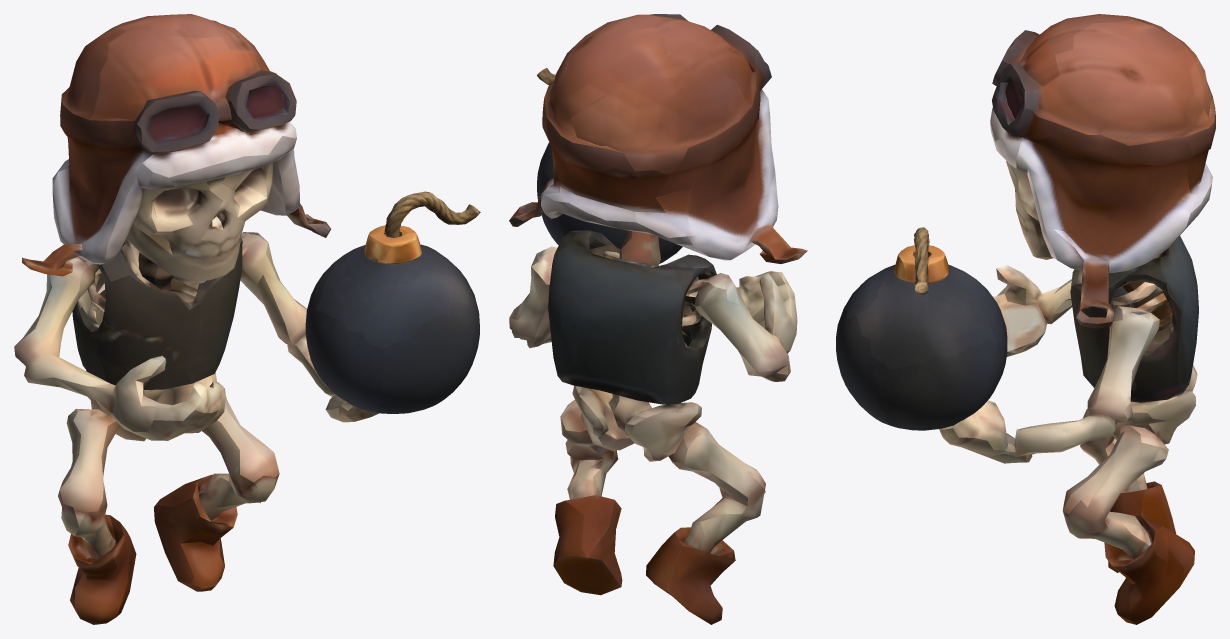
File: bomber_red.glb
3 renders of one model, left to right at view 1: azimuth 30°, elevation 25°; view 2: azimuth 150°, elevation 25°; view 3: azimuth 270°, elevation 25°, orthographic. The views are drawn at different scales.
Parts seen in each view (by area): view 1: bomber_red_body, bomber_red_bomb; view 2: bomber_red_body, bomber_red_bomb; view 3: bomber_red_body, bomber_red_bomb.
Part boxes in pixels (bbox=[...]): bomber_red_body: bbox=[14, 14, 378, 624]; bomber_red_bomb: bbox=[305, 191, 480, 413]; bomber_red_body: bbox=[509, 14, 807, 624]; bomber_red_bomb: bbox=[537, 68, 682, 263]; bomber_red_body: bbox=[939, 14, 1215, 624]; bomber_red_bomb: bbox=[836, 227, 1007, 430].
Bounding box in the file's own units: 0.7159 × 1.1 × 0.661.
Materials: 2 (2 with a texture image).
